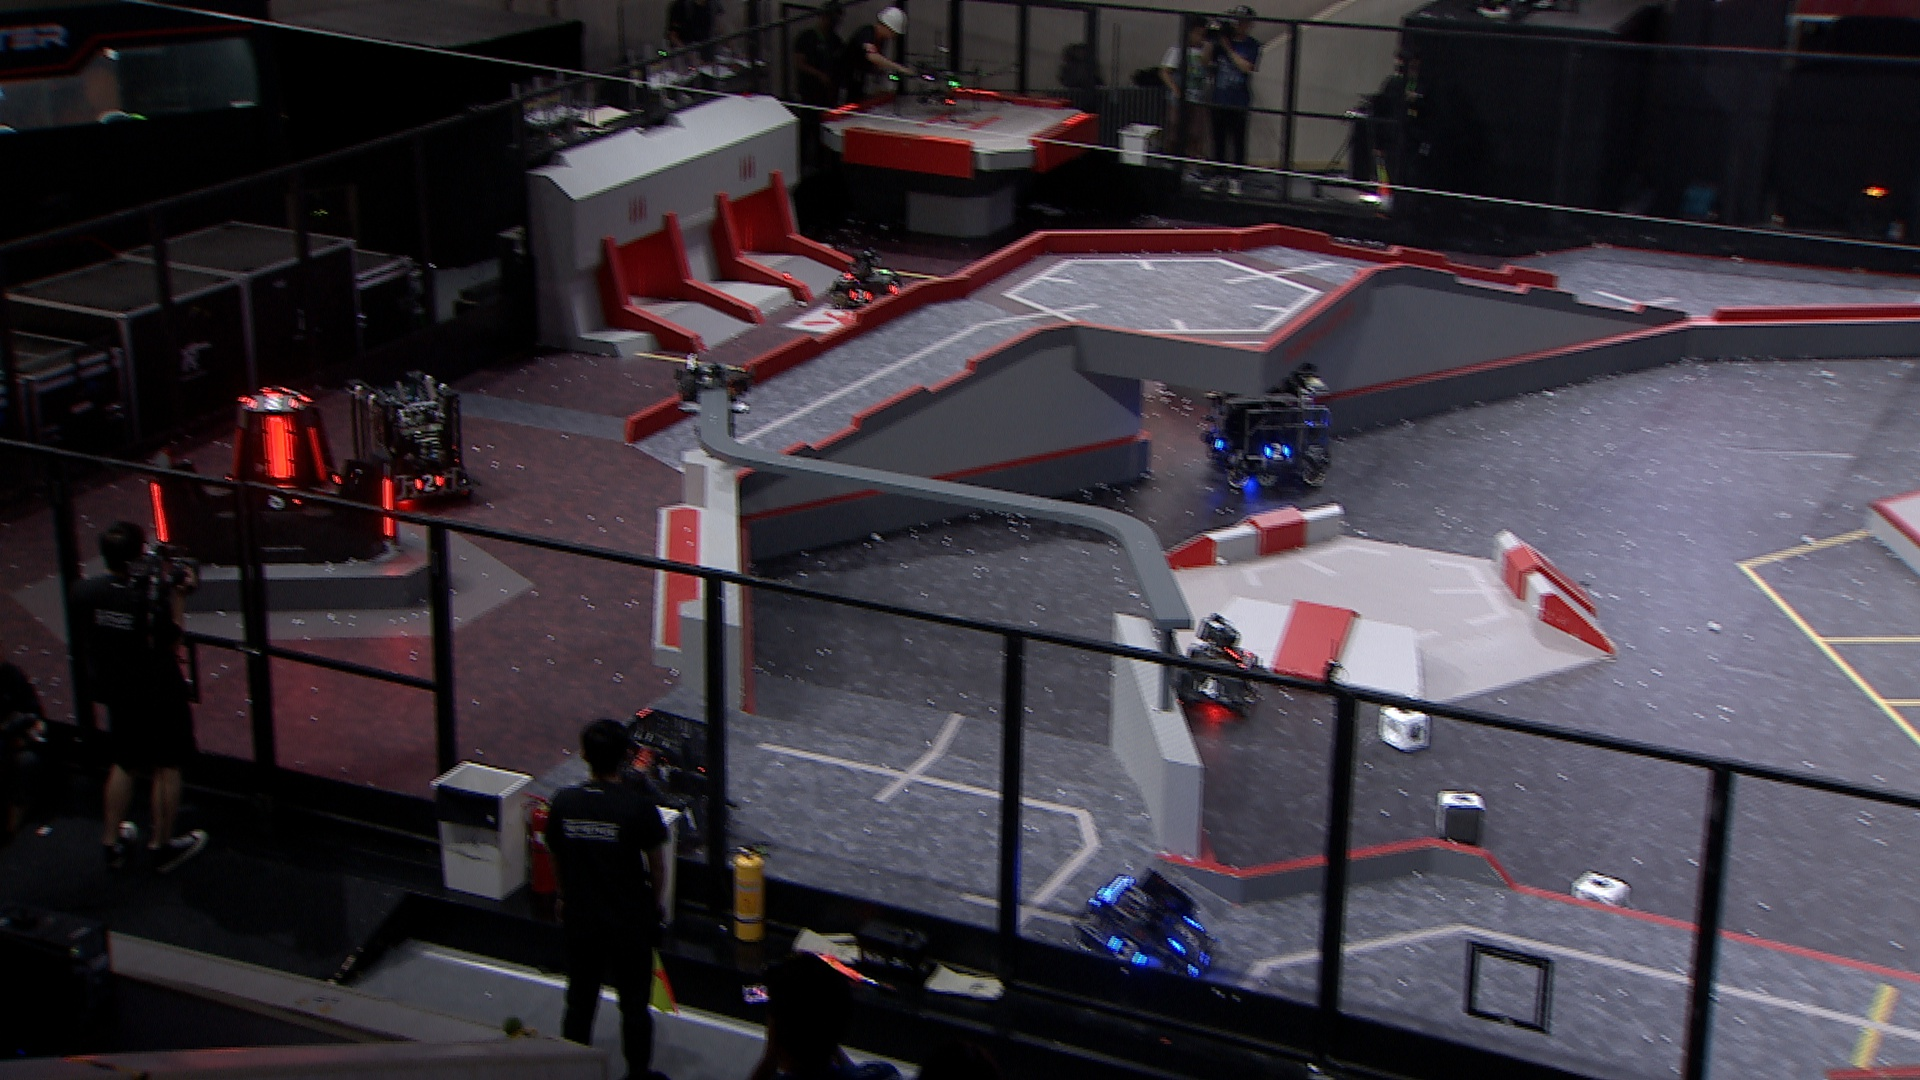armor: (261, 415, 301, 484), (302, 423, 332, 488), (144, 479, 169, 545), (376, 473, 398, 538), (1167, 916, 1204, 955), (1106, 934, 1147, 963), (225, 422, 247, 477), (247, 392, 301, 413), (675, 802, 705, 836), (1189, 675, 1225, 700), (261, 491, 301, 512), (411, 472, 448, 495), (1262, 440, 1291, 462), (847, 286, 874, 305), (1209, 425, 1225, 454), (887, 276, 902, 295)
base: (133, 378, 404, 566)
car: (575, 700, 744, 861), (1196, 353, 1342, 498), (339, 367, 485, 509), (1069, 865, 1225, 978), (1166, 615, 1263, 716), (829, 248, 910, 320)
watcher: (673, 351, 756, 439)
